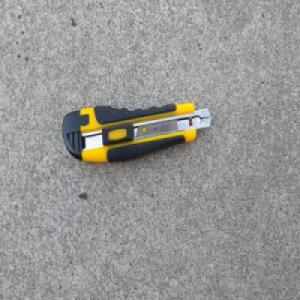Cutter: (61, 98, 212, 163)
